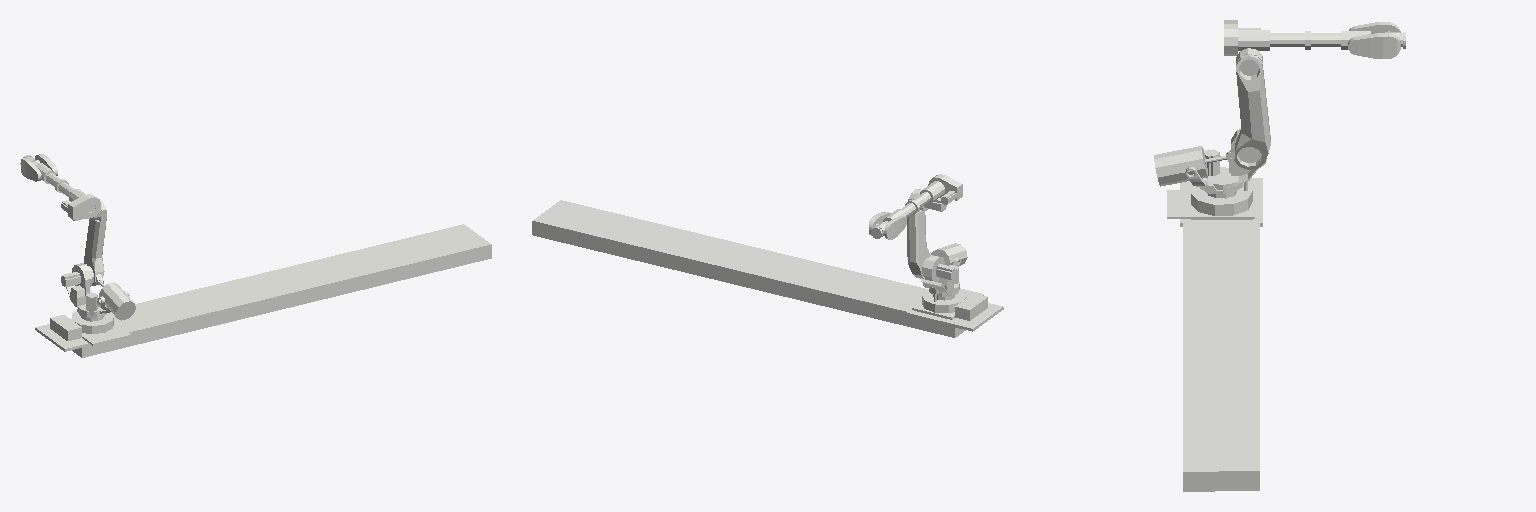
URDF robot description (big_robot):
<?xml version="1.0" ?>
<!-- =================================================================================== -->
<!-- |    This document was autogenerated by xacro from /root/catkin_ws/src/abb_irbt6004_670_moveit_config/urdf/abb_irb6700_175_305_ibois.xacro | -->
<!-- |    EDITING THIS FILE BY HAND IS NOT RECOMMENDED                                 | -->
<!-- =================================================================================== -->
<robot name="big_robot">
    <link name="world" />
    <joint name="world_joint" type="fixed">
        <parent link="world" />
        <child link="rob1_axis" />
        <!--<origin xyz="0 0.0 0.0" rpy="0.0 0.0 3.14159265358979323846" />-->
        <origin rpy="0.0006690539774448019 0.000669029972214783 0.00003588000859488913" xyz="0 0.0 0.0" />
        <!--Update for the base frame of the track -->
    </joint>
    <!-- Conversion were obtained from http://www.e-paint.co.uk/Lab_values.asp
       unless otherwise stated. -->
    <link name="rob1_axis">
        <inertial>
            <mass value="120" />
            <inertia ixx="-4.98000" ixy="-0.00000" ixz="2.70000" iyy="-5.95200" iyz="-0.00000" izz="0.82800" />
            <origin xyz="0 0 0" rpy="0 0 0" />
        </inertial>
        <visual>
            <origin xyz="3.35 0.0 0.0" />
            <geometry>
                <mesh filename="package://abb_irbt6004_670_moveit_config/meshes/abb_irbt6004_670/visual/axis.stl" />
            </geometry>
            <material name="">
                <color rgba="0.9254902 0.9254902 0.9058824 1" />
            </material>
        </visual>
        <collision>
            <origin xyz="3.35 0.0 0.0" />
            <geometry>
                <mesh filename="package://abb_irbt6004_670_moveit_config/meshes/abb_irbt6004_670/collision/axis.stl" />
            </geometry>
        </collision>
    </link>
    <joint name="rob1_linear_axis_joint" type="prismatic">
        <parent link="rob1_axis" />
        <child link="rob1_pedestal" />
        <origin rpy="0 0 0" xyz="0 0 0" />
        <!--track origin or translation from origin-->
        <axis xyz="1 0 0" />
        <limit effort="100000" lower="0" upper="6.700" velocity="2.618" />
        <!--track limits or length-->
        <dynamics damping="0.2" friction="0" />
    </joint>
    <link name="rob1_pedestal">
        <inertial>
            <origin xyz="0.0 0.0 0.0" rpy="0 0 0" />
            <mass value="120.00000" />
            <inertia ixx="-4.98000" ixy="-0.00000" ixz="2.70000" iyy="-5.95200" iyz="-0.00000" izz="0.82800" />
        </inertial>
        <visual>
            <geometry>
                <mesh filename="package://abb_irbt6004_670_moveit_config/meshes/abb_irbt6004_670/visual/pedestal_250.stl" />
            </geometry>
            <material name="">
                <color rgba="0.9254902 0.9254902 0.9058824 1" />
            </material>
        </visual>
        <collision>
            <geometry>
                <mesh filename="package://abb_irbt6004_670_moveit_config/meshes/abb_irbt6004_670/collision/pedestal_250.stl" />
            </geometry>
        </collision>
    </link>
    <joint name="rob1_abb_joint" type="fixed">
        <parent link="rob1_pedestal" />
        <child link="rob1_base_link" />
        <origin rpy="0 0 1.57079632679489661923 " xyz="0 0 0 " />
        <!--rotation of robot pedestal 3.14159265358979323846 1.57079632679489661923-->
        <dynamics damping="0.2" friction="0" />
    </joint>
    <!-- Conversion were obtained from http://www.e-paint.co.uk/Lab_values.asp
       unless otherwise stated. -->
    <!-- link list -->
    <link name="rob1_base_link">
        <visual>
            <origin rpy="0 0 0" xyz="0 0 0" />
            <geometry>
                <mesh filename="package://abb_irb6700_support/meshes/irb6700/visual/base_link.stl" />
            </geometry>
            <material name="">
                <color rgba="0.9254902 0.9254902 0.9058824 1" />
            </material>
        </visual>
        <collision>
            <origin rpy="0 0 0" xyz="0 0 0" />
            <geometry>
                <mesh filename="package://abb_irb6700_support/meshes/irb6700/collision/base_link.stl" />
            </geometry>
            <material name="">
                <color rgba="1 1 0 1" />
            </material>
        </collision>
        <inertial>
            <mass value="0.1" />
            <origin xyz="0 0 0" rpy="0 0 0" />
            <inertia ixx="0.03" iyy="0.03" izz="0.03" ixy="0.0" ixz="0.0" iyz="0.0" />
        </inertial>
    </link>
    <link name="rob1_link_1">
        <visual>
            <origin rpy="0 0 0" xyz="0 0 0" />
            <geometry>
                <mesh filename="package://abb_irb6700_support/meshes/irb6700/visual/link_1.stl" />
            </geometry>
            <material name="">
                <color rgba="0.9254902 0.9254902 0.9058824 1" />
            </material>
        </visual>
        <collision>
            <origin rpy="0 0 0" xyz="0 0 0" />
            <geometry>
                <mesh filename="package://abb_irb6700_support/meshes/irb6700/collision/link_1.stl" />
            </geometry>
            <material name="">
                <color rgba="1 1 0 1" />
            </material>
        </collision>
        <inertial>
            <mass value="0.1" />
            <origin xyz="0 0 0" rpy="0 0 0" />
            <inertia ixx="0.03" iyy="0.03" izz="0.03" ixy="0.0" ixz="0.0" iyz="0.0" />
        </inertial>
    </link>
    <link name="rob1_cylinder">
        <visual>
            <origin rpy="0 0 0" xyz="0 0 0" />
            <geometry>
                <mesh filename="package://abb_irb6700_support/meshes/irb6700/visual/cylinder.stl" />
            </geometry>
            <material name="">
                <color rgba="0.9254902 0.9254902 0.9058824 1" />
            </material>
        </visual>
        <collision>
            <origin rpy="0 0 0" xyz="0 0 0" />
            <geometry>
                <mesh filename="package://abb_irb6700_support/meshes/irb6700/collision/cylinder.stl" />
            </geometry>
            <material name="">
                <color rgba="1 1 0 1" />
            </material>
        </collision>
        <inertial>
            <mass value="0.1" />
            <origin xyz="0 0 0" rpy="0 0 0" />
            <inertia ixx="0.03" iyy="0.03" izz="0.03" ixy="0.0" ixz="0.0" iyz="0.0" />
        </inertial>
    </link>
    <link name="rob1_piston">
        <visual>
            <origin rpy="0 0 0" xyz="0 0 0" />
            <geometry>
                <mesh filename="package://abb_irb6700_support/meshes/irb6700/visual/piston.stl" />
            </geometry>
            <material name="">
                <color rgba="0.9254902 0.9254902 0.9058824 1" />
            </material>
        </visual>
        <collision>
            <origin rpy="0 0 0" xyz="0 0 0" />
            <geometry>
                <mesh filename="package://abb_irb6700_support/meshes/irb6700/collision/piston.stl" />
            </geometry>
            <material name="">
                <color rgba="1 1 0 1" />
            </material>
        </collision>
        <inertial>
            <mass value="0.1" />
            <origin xyz="0 0 0" rpy="0 0 0" />
            <inertia ixx="0.03" iyy="0.03" izz="0.03" ixy="0.0" ixz="0.0" iyz="0.0" />
        </inertial>
    </link>
    <link name="rob1_link_2">
        <visual>
            <origin rpy="0 0 0" xyz="0 0 0" />
            <geometry>
                <mesh filename="package://abb_irb6700_support/meshes/irb6700_175_305/visual/link_2.stl" />
            </geometry>
            <material name="">
                <color rgba="0.9254902 0.9254902 0.9058824 1" />
            </material>
        </visual>
        <collision>
            <origin rpy="0 0 0" xyz="0 0 0" />
            <geometry>
                <mesh filename="package://abb_irb6700_support/meshes/irb6700_175_305/collision/link_2.stl" />
            </geometry>
            <material name="">
                <color rgba="1 1 0 1" />
            </material>
        </collision>
        <inertial>
            <mass value="0.1" />
            <origin xyz="0 0 0" rpy="0 0 0" />
            <inertia ixx="0.03" iyy="0.03" izz="0.03" ixy="0.0" ixz="0.0" iyz="0.0" />
        </inertial>
    </link>
    <link name="rob1_link_3">
        <visual>
            <origin rpy="0 0 0" xyz="0 0 0" />
            <geometry>
                <mesh filename="package://abb_irb6700_support/meshes/irb6700_175_305/visual/link_3.stl" />
            </geometry>
            <material name="">
                <color rgba="0.9254902 0.9254902 0.9058824 1" />
            </material>
        </visual>
        <collision>
            <origin rpy="0 0 0" xyz="0 0 0" />
            <geometry>
                <mesh filename="package://abb_irb6700_support/meshes/irb6700_175_305/collision/link_3.stl" />
            </geometry>
            <material name="">
                <color rgba="1 1 0 1" />
            </material>
        </collision>
        <inertial>
            <mass value="0.1" />
            <origin xyz="0 0 0" rpy="0 0 0" />
            <inertia ixx="0.03" iyy="0.03" izz="0.03" ixy="0.0" ixz="0.0" iyz="0.0" />
        </inertial>
    </link>
    <link name="rob1_link_4">
        <visual>
            <origin rpy="0 0 0" xyz="0 0 0" />
            <geometry>
                <mesh filename="package://abb_irb6700_support/meshes/irb6700_175_305/visual/link_4.stl" />
            </geometry>
            <material name="">
                <color rgba="0.9254902 0.9254902 0.9058824 1" />
            </material>
        </visual>
        <collision>
            <origin rpy="0 0 0" xyz="0 0 0" />
            <geometry>
                <mesh filename="package://abb_irb6700_support/meshes/irb6700_175_305/collision/link_4.stl" />
            </geometry>
            <material name="">
                <color rgba="1 1 0 1" />
            </material>
        </collision>
        <inertial>
            <mass value="0.1" />
            <origin xyz="0 0 0" rpy="0 0 0" />
            <inertia ixx="0.03" iyy="0.03" izz="0.03" ixy="0.0" ixz="0.0" iyz="0.0" />
        </inertial>
    </link>
    <link name="rob1_link_5">
        <visual>
            <origin rpy="0 0 0" xyz="0 0 0" />
            <geometry>
                <mesh filename="package://abb_irb6700_support/meshes/irb6700/visual/link_5.stl" />
            </geometry>
            <material name="">
                <color rgba="0.9254902 0.9254902 0.9058824 1" />
            </material>
        </visual>
        <collision>
            <origin rpy="0 0 0" xyz="0 0 0" />
            <geometry>
                <mesh filename="package://abb_irb6700_support/meshes/irb6700/collision/link_5.stl" />
            </geometry>
            <material name="">
                <color rgba="1 1 0 1" />
            </material>
        </collision>
        <inertial>
            <mass value="0.1" />
            <origin xyz="0 0 0" rpy="0 0 0" />
            <inertia ixx="0.03" iyy="0.03" izz="0.03" ixy="0.0" ixz="0.0" iyz="0.0" />
        </inertial>
    </link>
    <link name="rob1_link_6">
        <visual>
            <origin rpy="0 0 0" xyz="0 0 0" />
            <geometry>
                <mesh filename="package://abb_irb6700_support/meshes/irb6700/visual/link_6.stl" />
            </geometry>
            <material name="">
                <color rgba="0.9254902 0.9254902 0.9058824 1" />
            </material>
        </visual>
        <collision>
            <origin rpy="0 0 0" xyz="0 0 0" />
            <geometry>
                <mesh filename="package://abb_irb6700_support/meshes/irb6700/collision/link_6.stl" />
            </geometry>
            <material name="">
                <color rgba="1 1 0 1" />
            </material>
        </collision>
        <inertial>
            <mass value="0.1" />
            <origin xyz="0 0 0" rpy="0 0 0" />
            <inertia ixx="0.03" iyy="0.03" izz="0.03" ixy="0.0" ixz="0.0" iyz="0.0" />
        </inertial>
    </link>
    <joint name="rob1_joint_1" type="revolute">
        <origin rpy="0 0 0" xyz="0 0 0.78" />
        <parent link="rob1_base_link" />
        <child link="rob1_link_1" />
        <axis xyz="0 0 1" />
        <limit effort="0" lower="-2.9670597283903604" upper="2.9670597283903604" velocity="1.9198621771937625" />
    </joint>
    <joint name="rob1_joint_2" type="revolute">
        <origin rpy="0 0 0" xyz="0.32 0 0" />
        <parent link="rob1_link_1" />
        <child link="rob1_link_2" />
        <axis xyz="0 1 0" />
        <limit effort="0" lower="-1.1344640137963142" upper="1.4835298641951802" velocity="1.9198621771937625" />
    </joint>
    <joint name="rob1_joint_3" type="revolute">
        <origin rpy="0 0 0" xyz="0 0 1.135" />
        <parent link="rob1_link_2" />
        <child link="rob1_link_3" />
        <axis xyz="0 1 0" />
        <limit effort="0" lower="-3.141592653589793" upper="1.2217304763960306" velocity="1.9198621771937625" />
    </joint>
    <joint name="rob1_joint_4" type="revolute">
        <origin rpy="0 0 0" xyz="0 0 0.2" />
        <parent link="rob1_link_3" />
        <child link="rob1_link_4" />
        <axis xyz="1 0 0" />
        <limit effort="0" lower="-5.235987755982989" upper="5.235987755982989" velocity="3.3161255787892263" />
    </joint>
    <joint name="rob1_joint_5" type="revolute">
        <origin rpy="0 0 0" xyz="1.593 0 0" />
        <parent link="rob1_link_4" />
        <child link="rob1_link_5" />
        <axis xyz="0 1 0" />
        <limit effort="0" lower="-2.2689280275926285" upper="2.2689280275926285" velocity="2.6179938779914944" />
    </joint>
    <joint name="rob1_joint_6" type="revolute">
        <origin rpy="0 0 0" xyz="0.2 0 0" />
        <parent link="rob1_link_5" />
        <child link="rob1_link_6" />
        <axis xyz="1 0 0" />
        <limit effort="0" lower="-6.283185307179586" upper="6.283185307179586" velocity="3.6651914291880923" />
    </joint>
    <joint name="rob1_cylinder_joint" type="revolute">
        <origin rpy="0 0 0" xyz="-0.349 -0.194 -0.142" />
        <parent link="rob1_link_1" />
        <child link="rob1_cylinder" />
        <axis xyz="0 1 0" />
        <mimic joint="rob1_joint_2" multiplier="-0.25" />
        <limit effort="0" lower="-0.28361600344907856" upper="0.37088246604879505" velocity="100" />
    </joint>
    <joint name="rob1_piston_joint" type="prismatic">
        <origin rpy="0.20897 0 -1.5707963267948966" xyz="0 0 0" />
        <parent link="rob1_cylinder" />
        <child link="rob1_piston" />
        <axis xyz="0 1 0" />
        <mimic joint="rob1_joint_2" multiplier="0.15" />
        <limit effort="0" lower="-0.25" upper="0.25" velocity="100" />
    </joint>
    <!-- ROS-Industrial 'base' frame: base_link to ABB World Coordinates transform -->
    <link name="rob1_base" />
    <joint name="rob1_base_link-base" type="fixed">
        <origin rpy="0 0 0" xyz="0 0 0" />
        <parent link="rob1_base_link" />
        <child link="rob1_base" />
    </joint>
    <!-- ROS-Industrial 'flange' frame: attachment point for EEF models -->
    <link name="rob1_flange" />
    <joint name="rob1_joint_6-flange" type="fixed">
        <origin rpy="0 0 0" xyz="0 0 0" />
        <parent link="rob1_link_6" />
        <child link="rob1_flange" />
    </joint>
    <!-- ROS-Industrial 'tool0' frame: all-zeros tool frame -->
    <link name="rob1_tool0" />
    <joint name="rob1_link_6-tool0" type="fixed">
        <origin rpy="0 1.5707963267948966 0" xyz="0 0 0" />
        <parent link="rob1_flange" />
        <child link="rob1_tool0" />
    </joint>
    <!--for multiple robots-->
    <transmission name="trans_rob1_linear_axis_joint">
        <type>transmission_interface/SimpleTransmission</type>
        <joint name="rob1_linear_axis_joint">
            <hardwareInterface>hardware_interface/EffortJointInterface</hardwareInterface>
        </joint>
        <actuator name="rob1_linear_axis_joint_motor">
            <hardwareInterface>hardware_interface/EffortJointInterface</hardwareInterface>
            <mechanicalReduction>1</mechanicalReduction>
        </actuator>
    </transmission>
    <transmission name="trans_rob1_joint_1">
        <type>transmission_interface/SimpleTransmission</type>
        <joint name="rob1_joint_1">
            <hardwareInterface>hardware_interface/EffortJointInterface</hardwareInterface>
        </joint>
        <actuator name="rob1_joint_1_motor">
            <hardwareInterface>hardware_interface/EffortJointInterface</hardwareInterface>
            <mechanicalReduction>1</mechanicalReduction>
        </actuator>
    </transmission>
    <transmission name="trans_rob1_joint_2">
        <type>transmission_interface/SimpleTransmission</type>
        <joint name="rob1_joint_2">
            <hardwareInterface>hardware_interface/EffortJointInterface</hardwareInterface>
        </joint>
        <actuator name="rob1_joint_2_motor">
            <hardwareInterface>hardware_interface/EffortJointInterface</hardwareInterface>
            <mechanicalReduction>1</mechanicalReduction>
        </actuator>
    </transmission>
    <transmission name="trans_rob1_joint_3">
        <type>transmission_interface/SimpleTransmission</type>
        <joint name="rob1_joint_3">
            <hardwareInterface>hardware_interface/EffortJointInterface</hardwareInterface>
        </joint>
        <actuator name="rob1_joint_3_motor">
            <hardwareInterface>hardware_interface/EffortJointInterface</hardwareInterface>
            <mechanicalReduction>1</mechanicalReduction>
        </actuator>
    </transmission>
    <transmission name="trans_rob1_joint_4">
        <type>transmission_interface/SimpleTransmission</type>
        <joint name="rob1_joint_4">
            <hardwareInterface>hardware_interface/EffortJointInterface</hardwareInterface>
        </joint>
        <actuator name="rob1_joint_4_motor">
            <hardwareInterface>hardware_interface/EffortJointInterface</hardwareInterface>
            <mechanicalReduction>1</mechanicalReduction>
        </actuator>
    </transmission>
    <transmission name="trans_rob1_joint_5">
        <type>transmission_interface/SimpleTransmission</type>
        <joint name="rob1_joint_5">
            <hardwareInterface>hardware_interface/EffortJointInterface</hardwareInterface>
        </joint>
        <actuator name="rob1_joint_5_motor">
            <hardwareInterface>hardware_interface/EffortJointInterface</hardwareInterface>
            <mechanicalReduction>1</mechanicalReduction>
        </actuator>
    </transmission>
    <transmission name="trans_rob1_joint_6">
        <type>transmission_interface/SimpleTransmission</type>
        <joint name="rob1_joint_6">
            <hardwareInterface>hardware_interface/EffortJointInterface</hardwareInterface>
        </joint>
        <actuator name="rob1_joint_6_motor">
            <hardwareInterface>hardware_interface/EffortJointInterface</hardwareInterface>
            <mechanicalReduction>1</mechanicalReduction>
        </actuator>
    </transmission>
    <transmission name="trans_rob1_cylinder_joint">
        <type>transmission_interface/SimpleTransmission</type>
        <joint name="rob1_cylinder_joint">
            <hardwareInterface>hardware_interface/EffortJointInterface</hardwareInterface>
        </joint>
        <actuator name="rob1_cylinder_joint_motor">
            <hardwareInterface>hardware_interface/EffortJointInterface</hardwareInterface>
            <mechanicalReduction>1</mechanicalReduction>
        </actuator>
    </transmission>
    <transmission name="trans_rob1_piston_joint">
        <type>transmission_interface/SimpleTransmission</type>
        <joint name="rob1_piston_joint">
            <hardwareInterface>hardware_interface/EffortJointInterface</hardwareInterface>
        </joint>
        <actuator name="rob1_piston_joint_motor">
            <hardwareInterface>hardware_interface/EffortJointInterface</hardwareInterface>
            <mechanicalReduction>1</mechanicalReduction>
        </actuator>
    </transmission>
    <gazebo>
        <plugin name="gazebo_ros_control">
            <robotNamespace>/</robotNamespace>
        </plugin>
    </gazebo>
</robot>

--- Facts derived from the render (not from the file) ---
Views: 3 orthographic renders of the robot side by side, from view 1: azimuth 30°, elevation 25°; view 2: azimuth 150°, elevation 25°; view 3: azimuth 270°, elevation 25°.
Model big_robot with 15 links and 14 joints (7 revolute, 2 prismatic, 5 fixed), rooted at world, posed every joint at zero.
Links seen in each view (by area): view 1: rob1_axis, rob1_base_link, rob1_link_1, rob1_link_2, rob1_link_4, rob1_link_3, rob1_cylinder, rob1_pedestal; view 2: rob1_axis, rob1_base_link, rob1_link_1, rob1_link_2, rob1_link_3, rob1_link_4, rob1_pedestal; view 3: rob1_axis, rob1_link_2, rob1_link_4, rob1_base_link, rob1_link_1, rob1_link_3, rob1_cylinder, rob1_pedestal.
Boxes of the visible links, box(x1,y1,x2,y2) form: rob1_axis: box(72, 224, 491, 357); rob1_base_link: box(50, 311, 130, 345); rob1_link_1: box(61, 263, 129, 317); rob1_link_2: box(84, 199, 106, 285); rob1_link_4: box(20, 154, 95, 211); rob1_link_3: box(61, 189, 102, 220); rob1_cylinder: box(99, 282, 135, 320); rob1_pedestal: box(35, 324, 90, 351); rob1_axis: box(532, 200, 965, 337); rob1_base_link: box(912, 288, 987, 320); rob1_link_1: box(921, 252, 960, 301); rob1_link_2: box(907, 189, 930, 278); rob1_link_3: box(913, 174, 962, 211); rob1_link_4: box(869, 192, 930, 239); rob1_pedestal: box(906, 303, 1003, 331); rob1_axis: box(1183, 200, 1259, 491); rob1_link_2: box(1226, 54, 1270, 169); rob1_link_4: box(1270, 22, 1400, 58); rob1_base_link: box(1167, 183, 1254, 219); rob1_link_1: box(1186, 129, 1266, 193); rob1_link_3: box(1224, 20, 1269, 75); rob1_cylinder: box(1154, 146, 1207, 186); rob1_pedestal: box(1180, 178, 1262, 226).
Size in the robot's own frame: 7.94 by 2.89 by 2.55 metres.
Meshes: 11 distinct files referenced, 11 mesh visuals loaded (11 binary STL).
